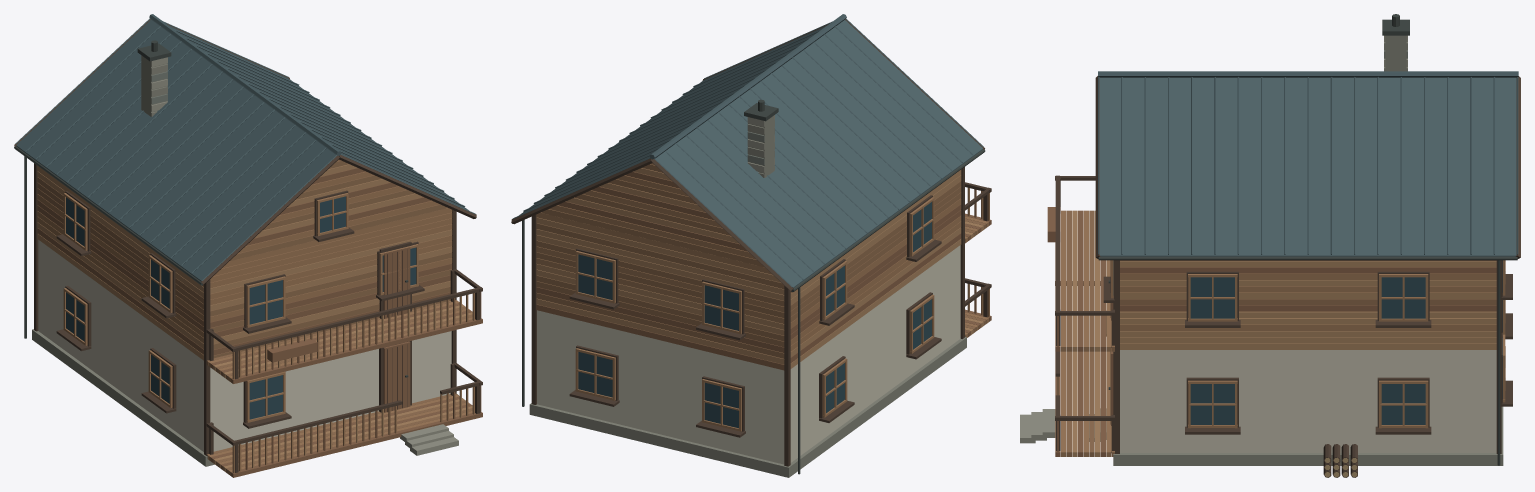
File: 02_chalet_balcon.glb
3 views of the same model, side by side, from view 1: azimuth 30°, elevation 25°; view 2: azimuth 150°, elevation 25°; view 3: azimuth 270°, elevation 25° (orthographic). The views are drawn at different scales.
Visible parts, largest first — view 1: 02_chalet_balcon; view 2: 02_chalet_balcon; view 3: 02_chalet_balcon.
Boxes of the visible parts, <box> form: 02_chalet_balcon: <box>14,14,482,477</box>; 02_chalet_balcon: <box>511,14,991,477</box>; 02_chalet_balcon: <box>1020,14,1520,477</box>.
Size of the model in its own units: 9.6 by 10 by 12.86.
